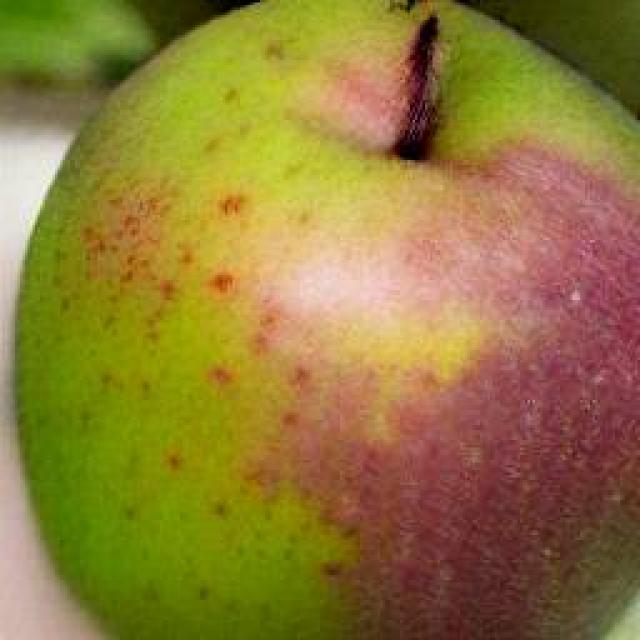defective: (8, 0, 638, 638)
